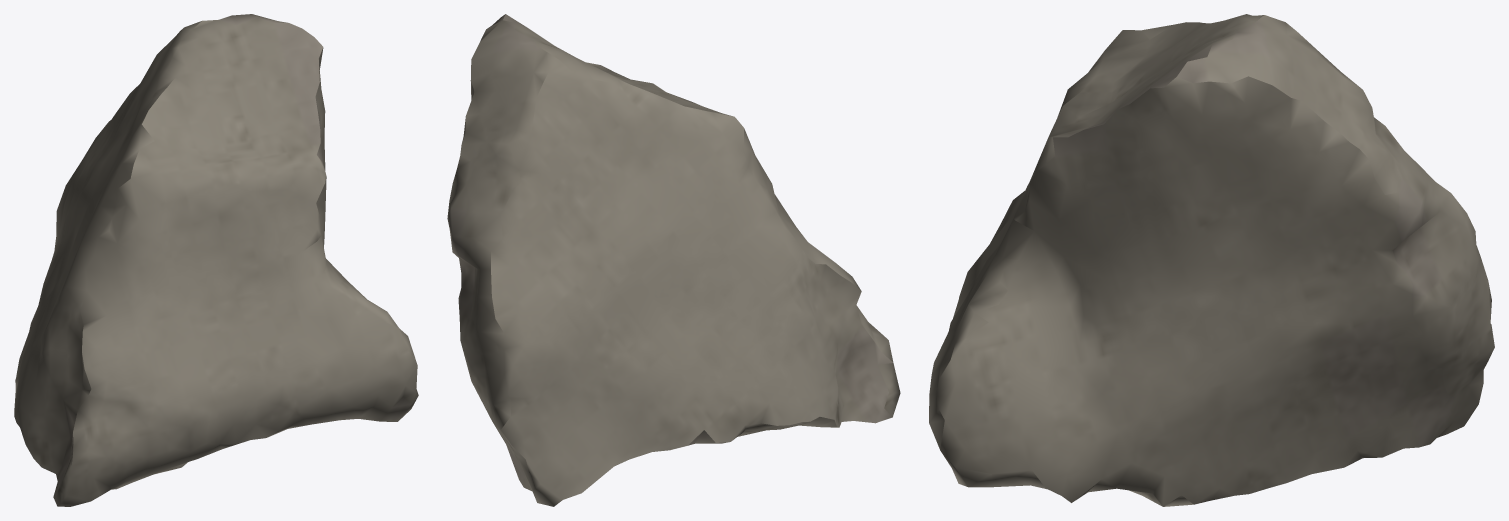
The model's file is sandgrain.glb.
3 views of the same model, side by side, from view 1: azimuth 30°, elevation 25°; view 2: azimuth 150°, elevation 25°; view 3: azimuth 270°, elevation 25° (orthographic). The views are drawn at different scales.
Visible parts, largest first — view 1: sandgrain; view 2: sandgrain; view 3: sandgrain.
Boxes of the visible parts, bbox=[...] form: sandgrain: bbox=[14, 14, 418, 506]; sandgrain: bbox=[447, 14, 900, 506]; sandgrain: bbox=[929, 14, 1494, 506].
Size of the model in its own units: 0.000436 by 0.00045 by 0.000499.
1 material, 1 textured.
